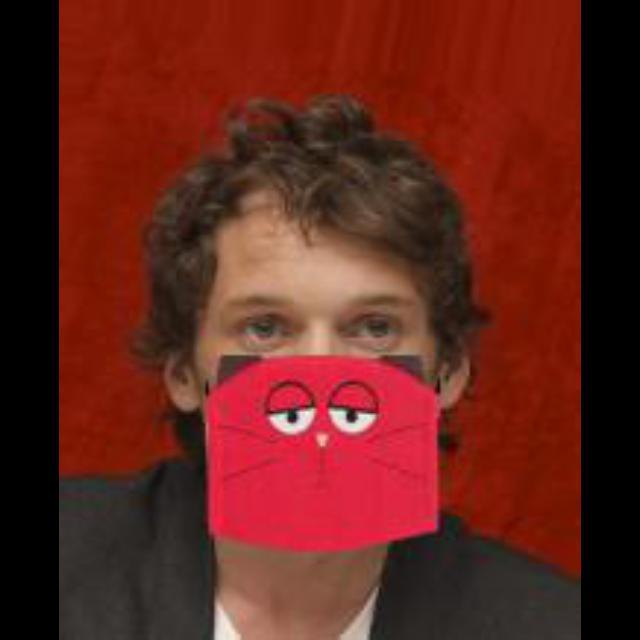suspicion: (131, 99, 477, 551)
